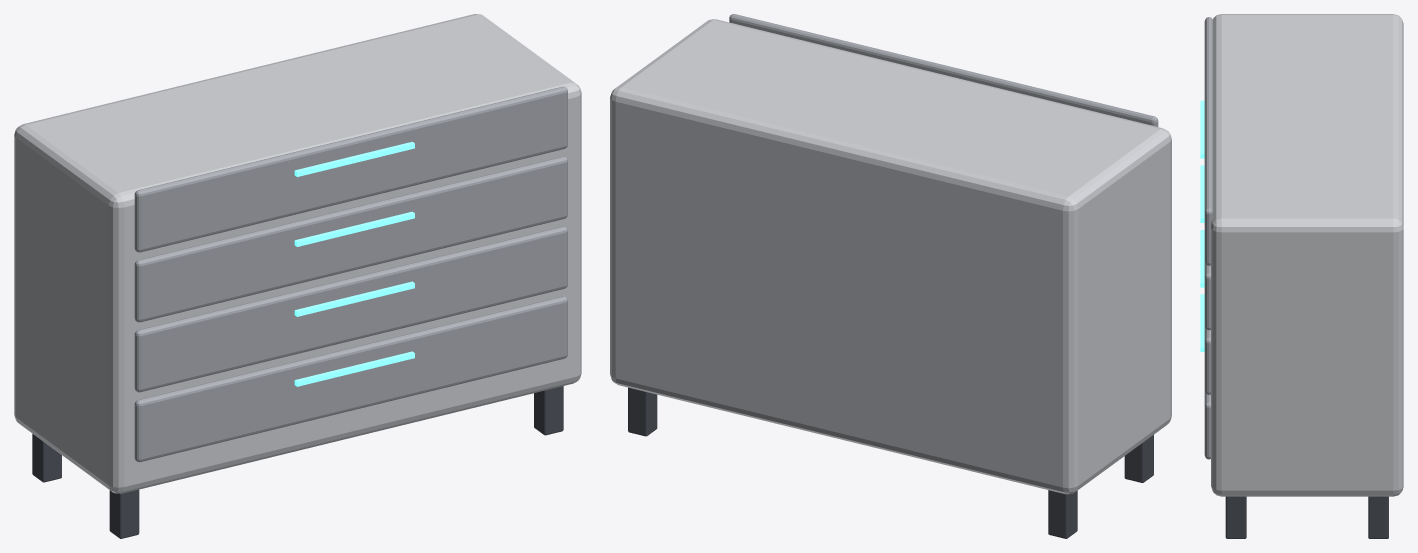
File: dresser_drawer_stack.glb
3 views of the same model, side by side, from view 1: azimuth 30°, elevation 25°; view 2: azimuth 150°, elevation 25°; view 3: azimuth 270°, elevation 25° (orthographic). The views are drawn at different scales.
Parts seen in each view (by area): view 1: GD_dresser_drawer_stack__m2, GD_dresser_drawer_stack__m3, GD_dresser_drawer_stack__m1, GD_dresser_drawer_stack__m0; view 2: GD_dresser_drawer_stack__m3, GD_dresser_drawer_stack__m2, GD_dresser_drawer_stack__m0; view 3: GD_dresser_drawer_stack__m3, GD_dresser_drawer_stack__m2, GD_dresser_drawer_stack__m0, GD_dresser_drawer_stack__m1.
Part boxes in pixels (left/top/right/bottom): GD_dresser_drawer_stack__m2: left=134, top=86, right=567, bottom=462; GD_dresser_drawer_stack__m3: left=14, top=14, right=581, bottom=493; GD_dresser_drawer_stack__m1: left=294, top=141, right=414, bottom=386; GD_dresser_drawer_stack__m0: left=32, top=386, right=563, bottom=538; GD_dresser_drawer_stack__m3: left=610, top=19, right=1171, bottom=494; GD_dresser_drawer_stack__m2: left=729, top=14, right=1158, bottom=126; GD_dresser_drawer_stack__m0: left=628, top=387, right=1153, bottom=538; GD_dresser_drawer_stack__m3: left=1211, top=14, right=1403, bottom=496; GD_dresser_drawer_stack__m2: left=1204, top=17, right=1213, bottom=459; GD_dresser_drawer_stack__m0: left=1225, top=496, right=1388, bottom=538; GD_dresser_drawer_stack__m1: left=1200, top=100, right=1204, bottom=351.
Size of the model in its own units: 1.2 by 0.86 by 0.486.
